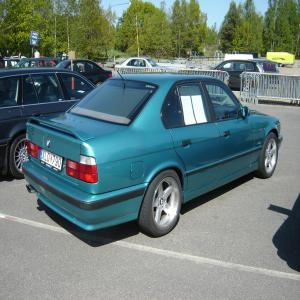Vehicle-registration-plate: (36, 151, 66, 179)
